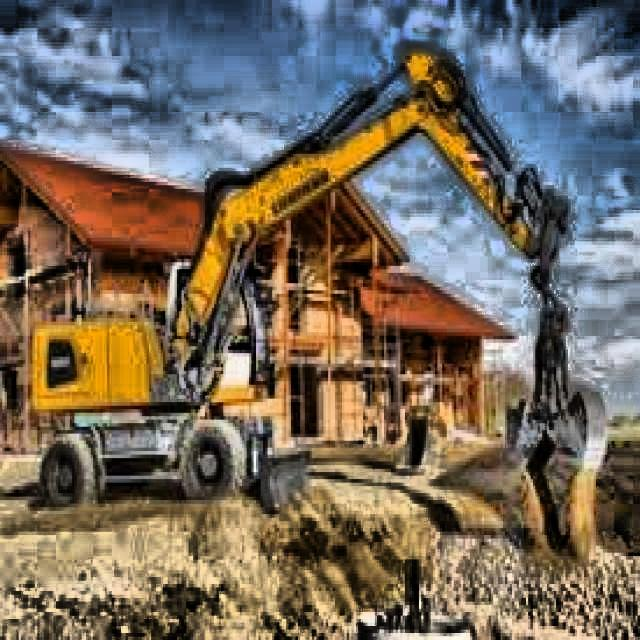bull_dozer/loader/grader: (25, 39, 608, 562)
person: (404, 368, 438, 480)
